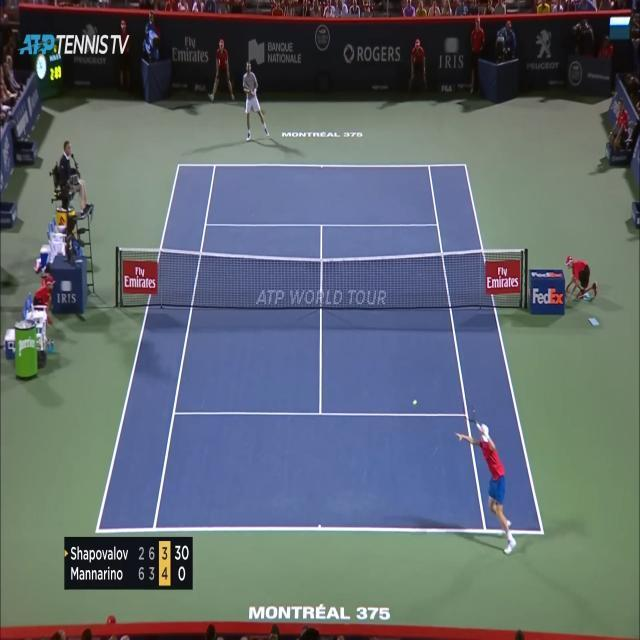court: (95, 164, 545, 535)
net: (113, 246, 531, 311)
player: (454, 402, 516, 556)
